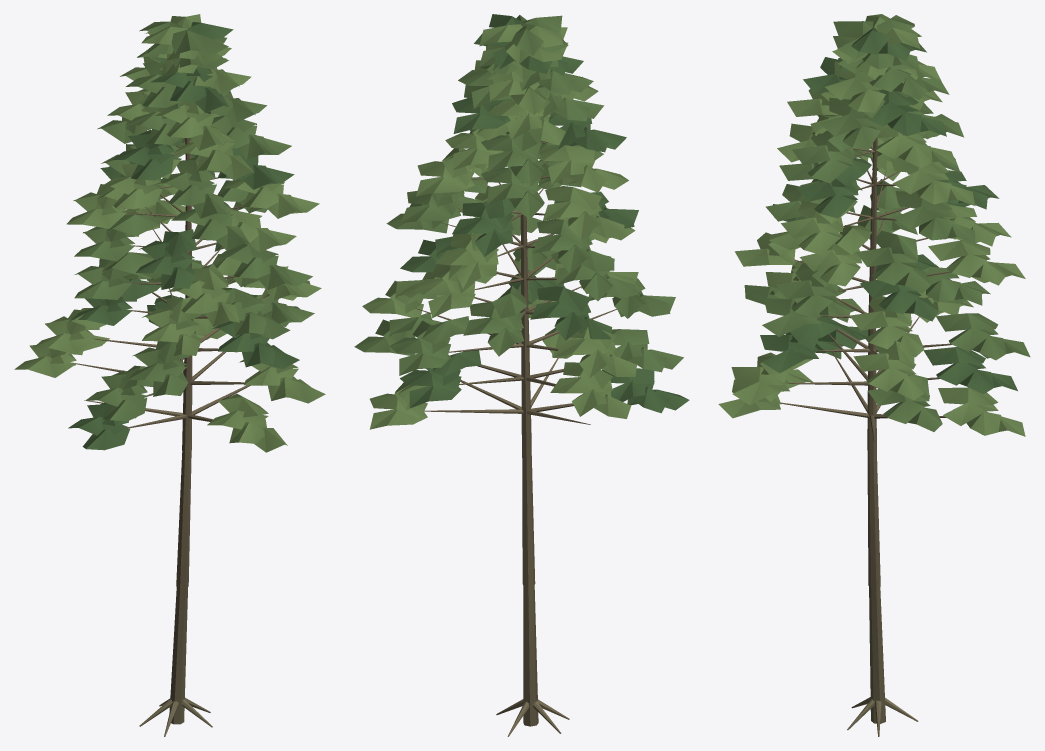
File: taiga-aspen.glb
The picture shows the model from 3 angles, left to right: view 1: azimuth 30°, elevation 25°; view 2: azimuth 150°, elevation 25°; view 3: azimuth 270°, elevation 25°; orthographic projection.
Visible parts, largest first — view 1: Осина; view 2: Осина; view 3: Осина.
Boxes of the visible parts, x1,y1,x2,y2 form: Осина: (14,14,325,736); Осина: (354,14,689,736); Осина: (718,14,1030,736).
Bounding box in the file's own units: 9.89 × 23.55 × 9.51.
